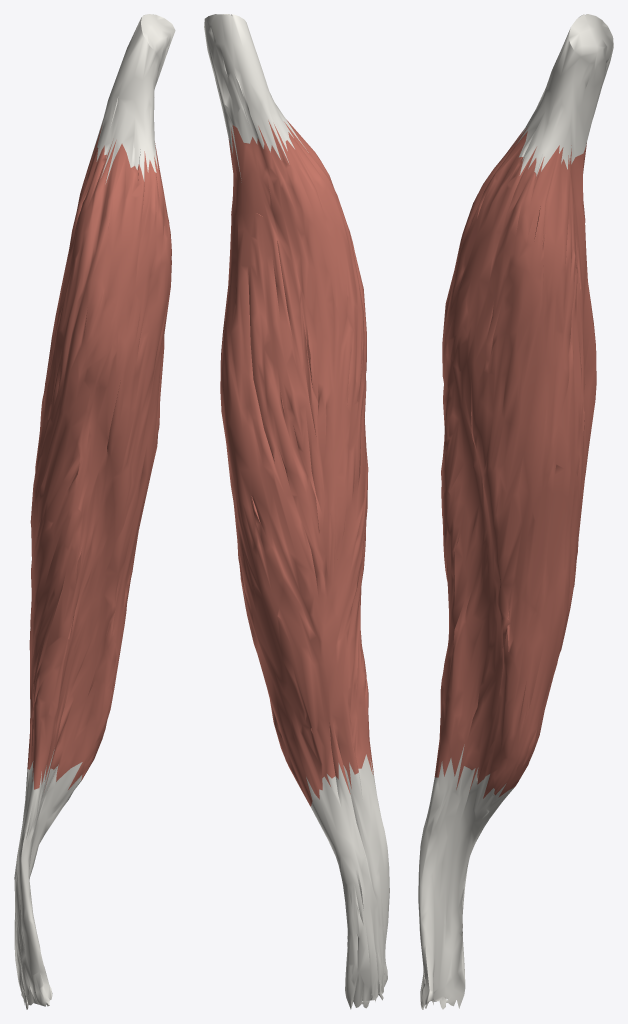
File: biceps-long.glb
3 views of the same model, side by side, from view 1: azimuth 30°, elevation 25°; view 2: azimuth 150°, elevation 25°; view 3: azimuth 330°, elevation 25° (orthographic). The views are drawn at different scales.
Parts seen in each view (by area): view 1: biceps-long; view 2: biceps-long; view 3: biceps-long.
Boxes of the visible parts, x1,y1,x2,y2 form: biceps-long: [14, 14, 175, 1009]; biceps-long: [204, 14, 389, 1009]; biceps-long: [418, 14, 613, 1009].
Bounding box in the file's own units: 0.0781 × 0.4254 × 0.0558.
